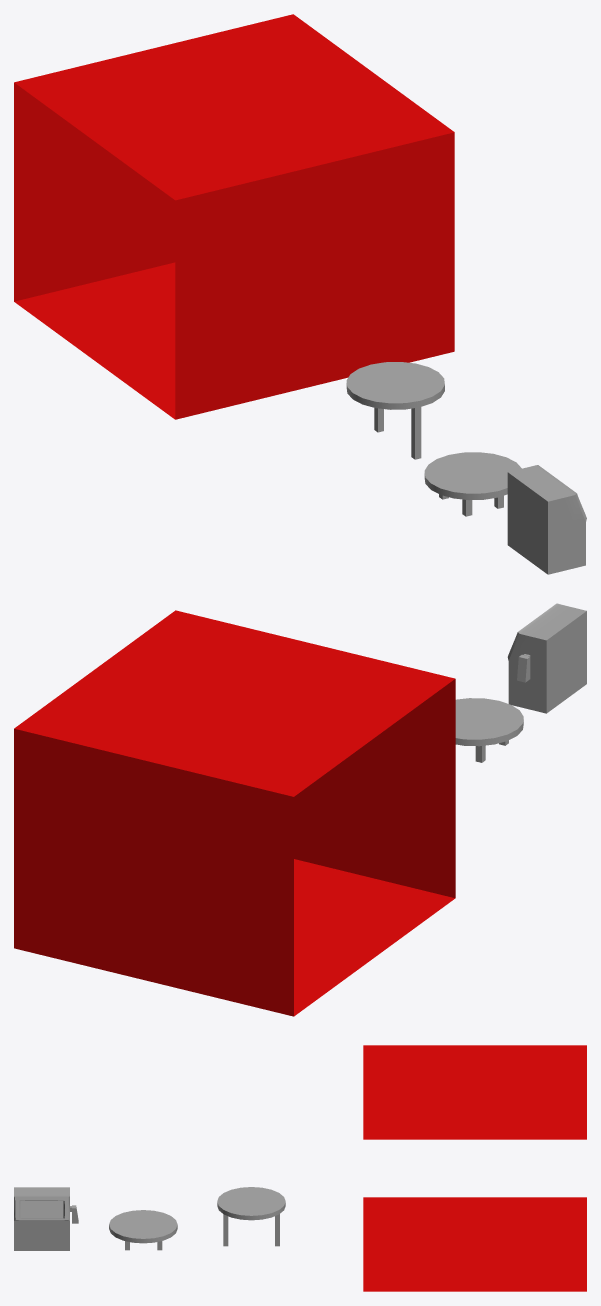
The model's file is ExportedFBXFile.fbx.
3 views of the same model, one above another, from view 1: azimuth 30°, elevation 25°; view 2: azimuth 150°, elevation 25°; view 3: azimuth 270°, elevation 25° (orthographic). The views are drawn at different scales.
Parts seen in each view (by area): view 1: pCube8, pCylinder1 (×2), pCube12; view 2: pCube8, pCube12, pCylinder1; view 3: pCube8, pCylinder1 (×2), pCube12.
Boxes of the visible parts, <box> form: pCube8: <box>14,14,454,419</box>; pCylinder1 (×2): <box>346,362,521,500</box>; pCube12: <box>507,465,586,574</box>; pCube8: <box>14,610,455,1016</box>; pCube12: <box>507,603,586,713</box>; pCylinder1: <box>455,698,523,746</box>; pCube8: <box>363,1045,586,1291</box>; pCylinder1 (×2): <box>109,1187,285,1243</box>; pCube12: <box>14,1187,69,1250</box>.
Bounding box in the file's own units: 4 × 3 × 10.25.
